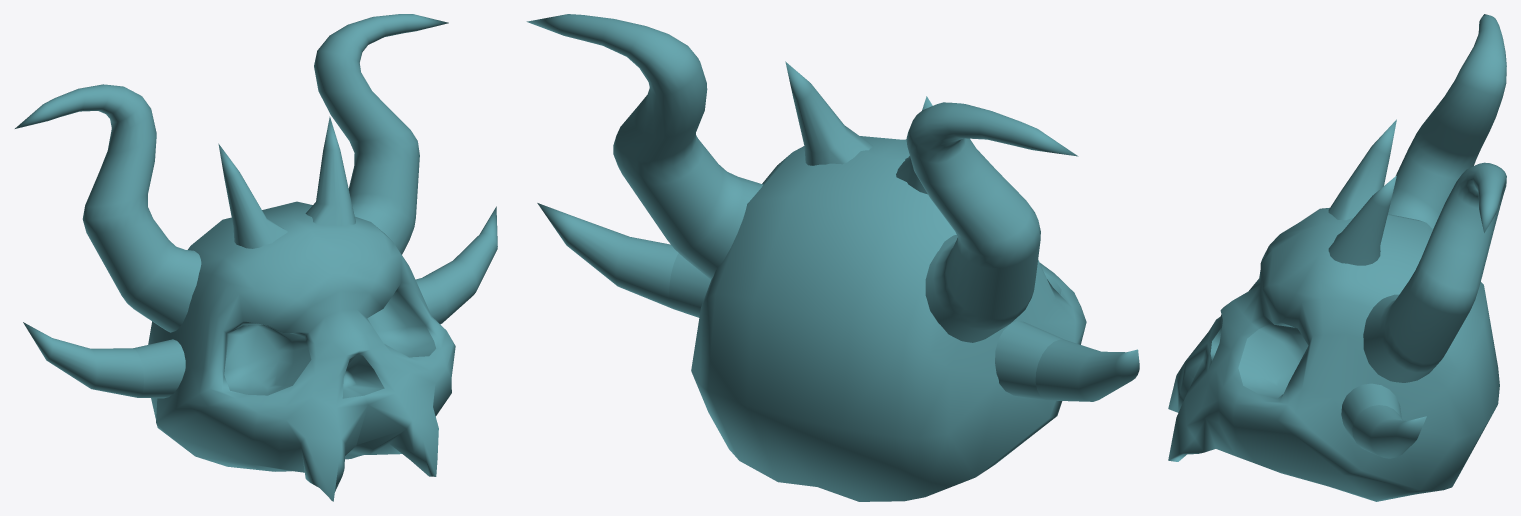
Rendered from SM_Ressource_P3.fbx.
3 views of the same model, side by side, from view 1: azimuth 30°, elevation 25°; view 2: azimuth 150°, elevation 25°; view 3: azimuth 270°, elevation 25° (orthographic). The views are drawn at different scales.
Parts seen in each view (by area): view 1: SM_ressource_P3; view 2: SM_ressource_P3; view 3: SM_ressource_P3.
Boxes of the visible parts, x1,y1,x2,y2 form: SM_ressource_P3: [15, 14, 497, 501]; SM_ressource_P3: [526, 14, 1139, 501]; SM_ressource_P3: [1168, 14, 1506, 501].
Size of the model in its own units: 157 by 115 by 94.24.
